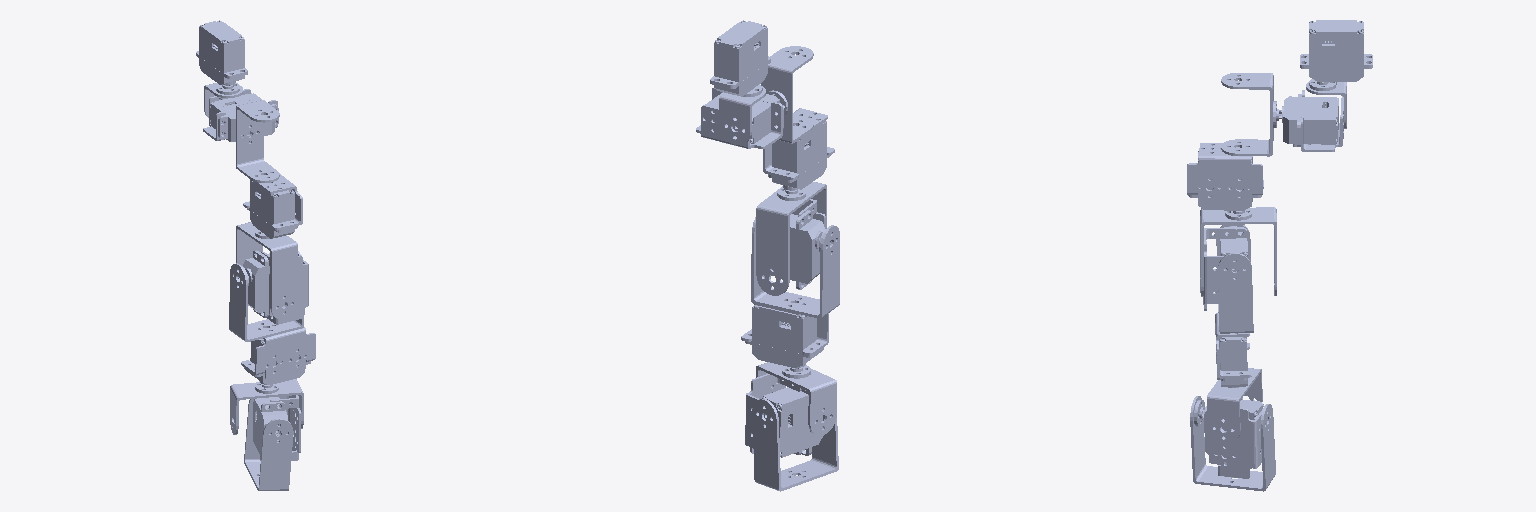
URDF robot description (arm_assembly_3):
<?xml version="1.0" encoding="utf-8"?>
<!-- This URDF was automatically created by SolidWorks to URDF Exporter! Originally created by [author] ([email redacted]) 
     Commit Version: 1.6.0-1-g15f4949  Build Version: 1.6.7594.29634
     For more information, please see http://wiki.ros.org/sw_urdf_exporter -->
<robot
  name="arm_assembly_3">
  <link
    name="base_link">
    <!-- <inertial>
      <origin
        xyz="0.00537914192717504 -0.0200099819447371 -0.0202923199399593"
        rpy="0 0 0" />
      <mass
        value="0.0319051544349151" />
      <inertia
        ixx="8.67708325062344E-06"
        ixy="-2.66559260574462E-10"
        ixz="-9.11524933844445E-11"
        iyy="5.26472342333194E-06"
        iyz="-8.0891965519516E-08"
        izz="5.4827831046489E-06" />
    </inertial>
    -->
    <visual>
      <origin
        xyz="0 0 0"
        rpy="0 0 0" />
      <geometry>
        <mesh
          filename="package://arm_assembly_3/meshes/base_link.STL" />
      </geometry>
      <material
        name="">
        <color
          rgba="0.792156862745098 0.819607843137255 0.933333333333333 1" />
      </material>
    </visual>
    <collision>
      <origin
        xyz="0 0 0"
        rpy="0 0 0" />
      <geometry>
        <mesh
          filename="package://arm_assembly_3/meshes/base_link.STL" />
      </geometry>
    </collision>
  </link>
  <link
    name="link1">
    <inertial>
      <origin
        xyz="0.0085665233556407 -0.00626847506104749 -0.0270017173430756"
        rpy="0 0 0" />
      <mass
        value="0.0410104436802228" />
      <inertia
        ixx="9.47690608514341E-06"
        ixy="3.64423331475411E-07"
        ixz="5.24709186672203E-07"
        iyy="9.17156321907187E-06"
        iyz="-5.34168078377187E-07"
        izz="1.27983563828142E-05" />
    </inertial>
    <visual>
      <origin
        xyz="0 0 0"
        rpy="0 0 0" />
      <geometry>
        <mesh
          filename="package://arm_assembly_3/meshes/link1.STL" />
      </geometry>
      <material
        name="">
        <color
          rgba="0.792156862745098 0.819607843137255 0.933333333333333 1" />
      </material>
    </visual>
    <collision>
      <origin
        xyz="0 0 0"
        rpy="0 0 0" />
      <geometry>
        <mesh
          filename="package://arm_assembly_3/meshes/link1.STL" />
      </geometry>
    </collision>
  </link>
  <joint
    name="joint1"
    type="revolute">
    <origin
      xyz="0.0052247 -0.029901 -0.0445"
      rpy="0 0 0" />
    <parent
      link="base_link" />
    <child
      link="link1" />
    <axis
      xyz="0 0 1" />
    <limit
      lower="-0.785398"
      upper="3.316126"
      effort="0"
      velocity="0" />
  </joint>
  <link
    name="link2">
    <inertial>
      <origin
        xyz="0.0433001816963551 0.00298602346887532 0.034630760987739"
        rpy="0 0 0" />
      <mass
        value="0.0441973162046589" />
      <inertia
        ixx="1.2404432131126E-05"
        ixy="-8.29537244327774E-07"
        ixz="-7.30720685832946E-06"
        iyy="3.33974522345599E-05"
        iyz="-5.09577042810609E-07"
        izz="2.48917614267323E-05" />
    </inertial>
    <visual>
      <origin
        xyz="0 0 0"
        rpy="0 0 0" />
      <geometry>
        <mesh
          filename="package://arm_assembly_3/meshes/link2.STL" />
      </geometry>
      <material
        name="">
        <color
          rgba="0.792156862745098 0.819607843137255 0.933333333333333 1" />
      </material>
    </visual>
    <collision>
      <origin
        xyz="0 0 0"
        rpy="0 0 0" />
      <geometry>
        <mesh
          filename="package://arm_assembly_3/meshes/link2.STL" />
      </geometry>
    </collision>
  </link>
  <joint
    name="joint2"
    type="revolute">
    <origin
      xyz="-0.0011908 -0.032981 -0.027656"
      rpy="1.5947 1.5708 0" />
    <parent
      link="link1" />
    <child
      link="link2" />
    <axis
      xyz="0 0 -1" />
    <limit
      lower="-3.926991"
      upper="0.785398"
      effort="0"
      velocity="0" />
  </joint>
  <link
    name="link3">
    <inertial>
      <origin
        xyz="0.00144856709719526 -0.00480989017520077 -0.0407373019398186"
        rpy="0 0 0" />
      <mass
        value="0.0468973470900495" />
      <inertia
        ixx="2.1024763330585E-05"
        ixy="7.48036478819629E-07"
        ixz="3.70368656713493E-07"
        iyy="1.91604564254077E-05"
        iyz="-9.58910812954483E-07"
        izz="1.39446199408151E-05" />
    </inertial>
    <visual>
      <origin
        xyz="0 0 0"
        rpy="0 0 0" />
      <geometry>
        <mesh
          filename="package://arm_assembly_3/meshes/link3.STL" />
      </geometry>
      <material
        name="">
        <color
          rgba="0.792156862745098 0.819607843137255 0.933333333333333 1" />
      </material>
    </visual>
    <collision>
      <origin
        xyz="0 0 0"
        rpy="0 0 0" />
      <geometry>
        <mesh
          filename="package://arm_assembly_3/meshes/link3.STL" />
      </geometry>
    </collision>
  </link>
  <joint
    name="joint3"
    type="revolute">
    <origin
      xyz="0.0765 0.0026556 0.028599"
      rpy="-1.5708 0.023935 1.5708" />
    <parent
      link="link2" />
    <child
      link="link3" />
    <axis
      xyz="0 0 1" />
    <limit
      lower="-1.745329"
      upper="1.745329"
      effort="0"
      velocity="0" />
  </joint>
  <link
    name="link4">
    <inertial>
      <origin
        xyz="0.000644251052055803 0.0660807451013709 0.0297482009756613"
        rpy="0 0 0" />
      <mass
        value="0.0468973133508552" />
      <inertia
        ixx="3.83763157971716E-05"
        ixy="-4.12052356248878E-07"
        ixz="2.6118586537159E-08"
        iyy="1.4268206807337E-05"
        iyz="-4.47467575685872E-06"
        izz="2.82540176065191E-05" />
    </inertial>
    <visual>
      <origin
        xyz="0 0 0"
        rpy="0 0 0" />
      <geometry>
        <mesh
          filename="package://arm_assembly_3/meshes/link4.STL" />
      </geometry>
      <material
        name="">
        <color
          rgba="0.792156862745098 0.819607843137255 0.933333333333333 1" />
      </material>
    </visual>
    <collision>
      <origin
        xyz="0 0 0"
        rpy="0 0 0" />
      <geometry>
        <mesh
          filename="package://arm_assembly_3/meshes/link4.STL" />
      </geometry>
    </collision>
  </link>
  <joint
    name="joint4"
    type="revolute">
    <origin
      xyz="-0.02392 -0.0038731 -0.035099"
      rpy="-1.5708 0 -1.5708" />
    <parent
      link="link3" />
    <child
      link="link4" />
    <axis
      xyz="-0.022063 0 0.99976" />
    <limit
      lower="-2.094395"
      upper="2.356194"
      effort="0"
      velocity="0" />
  </joint>
  <link
    name="link5">
    <inertial>
      <origin
        xyz="-0.00532701471353565 0.000182953422074653 -0.0359086026675726"
        rpy="0 0 0" />
      <mass
        value="0.0441973483087565" />
      <inertia
        ixx="1.63757481245814E-05"
        ixy="-5.52870289608153E-07"
        ixz="-9.86724855795872E-07"
        iyy="1.71941634742263E-05"
        iyz="-4.42711290371809E-08"
        izz="1.17625028185318E-05" />
    </inertial>
    <visual>
      <origin
        xyz="0 0 0"
        rpy="0 0 0" />
      <geometry>
        <mesh
          filename="package://arm_assembly_3/meshes/link5.STL" />
      </geometry>
      <material
        name="">
        <color
          rgba="0.792156862745098 0.819607843137255 0.933333333333333 1" />
      </material>
    </visual>
    <collision>
      <origin
        xyz="0 0 0"
        rpy="0 0 0" />
      <geometry>
        <mesh
          filename="package://arm_assembly_3/meshes/link5.STL" />
      </geometry>
    </collision>
  </link>
  <joint
    name="joint5"
    type="revolute">
    <origin
      xyz="-0.00045549 0.10103 0.022094"
      rpy="-0.022885 1.5703 -1.5708" />
    <parent
      link="link4" />
    <child
      link="link5" />
    <axis
      xyz="0 0 1" />
    <limit
      lower="-1.570796"
      upper="2.356194"
      effort="0"
      velocity="0" />
  </joint>
  <link
    name="link6">
    <inertial>
      <origin
        xyz="0.027917364247385 0.00387021844402496 0.0205041823015297"
        rpy="0 0 0" />
      <mass
        value="0.00924604523543896" />
      <inertia
        ixx="5.90557115471928E-06"
        ixy="-4.9774273116807E-07"
        ixz="-5.1517086793019E-07"
        iyy="9.42697695087516E-06"
        iyz="-7.14187692426848E-08"
        izz="4.58129053999237E-06" />
    </inertial>
    <visual>
      <origin
        xyz="0 0 0"
        rpy="0 0 0" />
      <geometry>
        <mesh
          filename="package://arm_assembly_3/meshes/link6.STL" />
      </geometry>
      <material
        name="">
        <color
          rgba="0.792156862745098 0.819607843137255 0.933333333333333 1" />
      </material>
    </visual>
    <collision>
      <origin
        xyz="0 0 0"
        rpy="0 0 0" />
      <geometry>
        <mesh
          filename="package://arm_assembly_3/meshes/link6.STL" />
      </geometry>
    </collision>
  </link>
  <joint
    name="joint6"
    type="revolute">
    <origin
      xyz="0.004012 0.023897 -0.030099"
      rpy="-1.5708 1.4947 2.8368" />
    <parent
      link="link5" />
    <child
      link="link6" />
    <axis
      xyz="0 0 1" />
    <limit
      lower="-1.570796"
      upper="1.570796"
      effort="0"
      velocity="0" />
  </joint>
</robot>

--- What the picture shows (computed from the rendered views, not written in the file) ---
Views: 3 orthographic renders of the robot side by side, from view 1: azimuth 30°, elevation 25°; view 2: azimuth 150°, elevation 25°; view 3: azimuth 270°, elevation 25°.
Robot: arm_assembly_3 — 7 links, 6 joints (6 revolute); root link base_link; default pose: all joints at 0.
Links seen in each view (by area): view 1: link3, link2, link4, link5, link6, base_link, link1; view 2: link4, link3, link5, link2, link1, link6, base_link; view 3: link2, link5, link4, link1, base_link, link3, link6.
Link boxes in pixels (left/top/right/bottom): link3: left=236, top=222, right=308, bottom=324; link2: left=236, top=100, right=302, bottom=238; link4: left=229, top=251, right=315, bottom=384; link5: left=230, top=379, right=303, bottom=460; link6: left=244, top=399, right=293, bottom=490; base_link: left=196, top=20, right=247, bottom=85; link1: left=203, top=83, right=278, bottom=141; link4: left=741, top=217, right=839, bottom=368; link3: left=756, top=182, right=826, bottom=295; link5: left=745, top=362, right=836, bottom=457; link2: left=761, top=46, right=834, bottom=190; link1: left=696, top=84, right=783, bottom=148; link6: left=752, top=399, right=838, bottom=491; base_link: left=710, top=20, right=770, bottom=96; link2: left=1187, top=73, right=1278, bottom=210; link5: left=1202, top=368, right=1263, bottom=478; link4: left=1215, top=225, right=1253, bottom=386; link1: left=1279, top=79, right=1346, bottom=151; base_link: left=1300, top=20, right=1372, bottom=81; link3: left=1200, top=207, right=1276, bottom=310; link6: left=1190, top=396, right=1275, bottom=491.
Size in the robot's own frame: 0.0692 by 0.1367 by 0.3687 metres.
Meshes: 7 distinct files referenced, 7 mesh visuals loaded (7 binary STL).